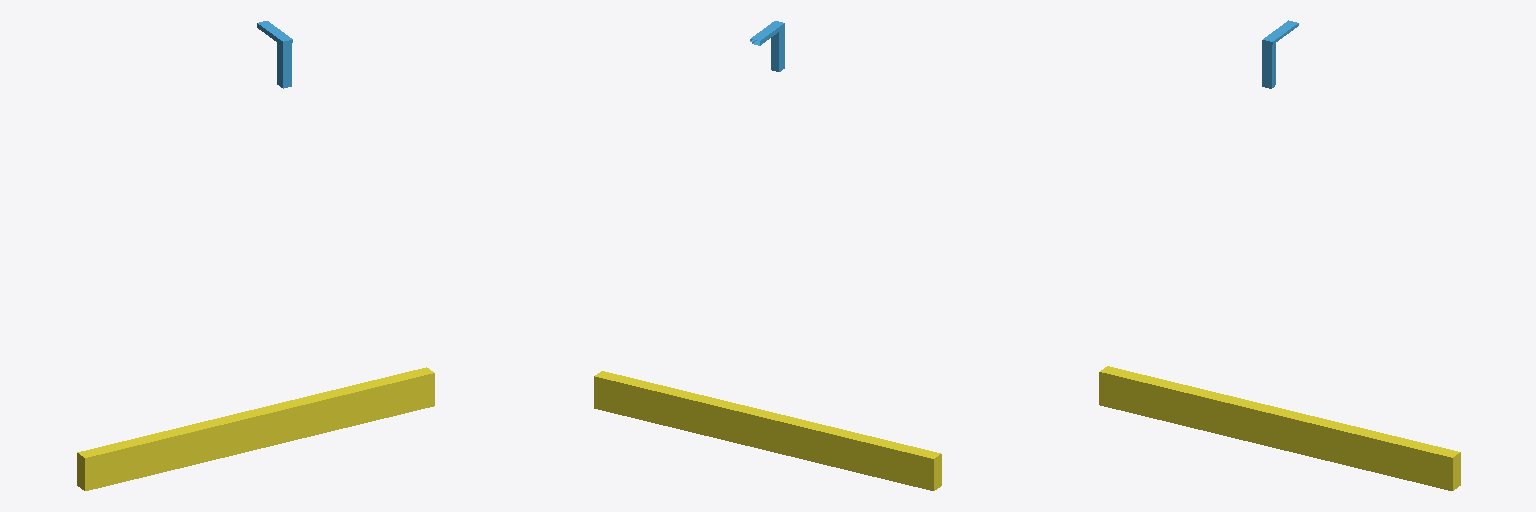
robot.urdf — partnet_302650a74e884d99544782db8258108:
<?xml version="1.0" ?>
<robot name="partnet_302650a74e884d99544782db8258108">
	<link name="base"/>
	<link name="link_0">
		<visual name="translation-2">
			<origin xyz="0 0 0"/>
			<geometry>
				<mesh filename="textured_objs/original-6.obj" scale="1.0 1.0 1.0"/>
			</geometry>
		</visual>
		<visual name="translation-2">
			<origin xyz="0 0 0"/>
			<geometry>
				<mesh filename="textured_objs/original-4.obj" scale="1.0 1.0 1.0"/>
			</geometry>
		</visual>
		<visual name="translation-2">
			<origin xyz="0 0 0"/>
			<geometry>
				<mesh filename="textured_objs/original-8.obj" scale="1.0 1.0 1.0"/>
			</geometry>
		</visual>
		<visual name="translation-2">
			<origin xyz="0 0 0"/>
			<geometry>
				<mesh filename="textured_objs/original-7.obj" scale="1.0 1.0 1.0"/>
			</geometry>
		</visual>
		<visual name="translation-2">
			<origin xyz="0 0 0"/>
			<geometry>
				<mesh filename="textured_objs/original-3.obj" scale="1.0 1.0 1.0"/>
			</geometry>
		</visual>
		<visual name="translation-2">
			<origin xyz="0 0 0"/>
			<geometry>
				<mesh filename="textured_objs/original-5.obj" scale="1.0 1.0 1.0"/>
			</geometry>
		</visual>
		<visual name="translation-2">
			<origin xyz="0 0 0"/>
			<geometry>
				<mesh filename="textured_objs/original-2.obj" scale="1.0 1.0 1.0"/>
			</geometry>
		</visual>
		<collision>
			<origin xyz="0 0 0"/>
			<geometry>
				<mesh filename="textured_objs/original-6.obj" scale="1.0 1.0 1.0"/>
			</geometry>
		</collision>
		<collision>
			<origin xyz="0 0 0"/>
			<geometry>
				<mesh filename="textured_objs/original-4.obj" scale="1.0 1.0 1.0"/>
			</geometry>
		</collision>
		<collision>
			<origin xyz="0 0 0"/>
			<geometry>
				<mesh filename="textured_objs/original-8.obj" scale="1.0 1.0 1.0"/>
			</geometry>
		</collision>
		<collision>
			<origin xyz="0 0 0"/>
			<geometry>
				<mesh filename="textured_objs/original-7.obj" scale="1.0 1.0 1.0"/>
			</geometry>
		</collision>
		<collision>
			<origin xyz="0 0 0"/>
			<geometry>
				<mesh filename="textured_objs/original-3.obj" scale="1.0 1.0 1.0"/>
			</geometry>
		</collision>
		<collision>
			<origin xyz="0 0 0"/>
			<geometry>
				<mesh filename="textured_objs/original-5.obj" scale="1.0 1.0 1.0"/>
			</geometry>
		</collision>
		<collision>
			<origin xyz="0 0 0"/>
			<geometry>
				<mesh filename="textured_objs/original-2.obj" scale="1.0 1.0 1.0"/>
			</geometry>
		</collision>
	</link>
	<joint name="joint_0" type="fixed">
		<origin xyz="0 0 0"/>
		<axis xyz="1 0 0"/>
		<child link="link_0"/>
		<parent link="link_2"/>
		<limit lower="-0.6839999999999999" upper="0"/>
	</joint>
	<link name="link_1">
		<visual name="translation-3">
			<origin xyz="0 0 0"/>
			<geometry>
				<mesh filename="textured_objs/original-19.obj" scale="1.0 1.0 1.0"/>
			</geometry>
		</visual>
		<visual name="translation-3">
			<origin xyz="0 0 0"/>
			<geometry>
				<mesh filename="textured_objs/original-22.obj" scale="1.0 1.0 1.0"/>
			</geometry>
		</visual>
		<visual name="translation-3">
			<origin xyz="0 0 0"/>
			<geometry>
				<mesh filename="textured_objs/original-21.obj" scale="1.0 1.0 1.0"/>
			</geometry>
		</visual>
		<visual name="translation-3">
			<origin xyz="0 0 0"/>
			<geometry>
				<mesh filename="textured_objs/original-18.obj" scale="1.0 1.0 1.0"/>
			</geometry>
		</visual>
		<visual name="translation-3">
			<origin xyz="0 0 0"/>
			<geometry>
				<mesh filename="textured_objs/original-20.obj" scale="1.0 1.0 1.0"/>
			</geometry>
		</visual>
		<collision>
			<origin xyz="0 0 0"/>
			<geometry>
				<mesh filename="textured_objs/original-19.obj" scale="1.0 1.0 1.0"/>
			</geometry>
		</collision>
		<collision>
			<origin xyz="0 0 0"/>
			<geometry>
				<mesh filename="textured_objs/original-22.obj" scale="1.0 1.0 1.0"/>
			</geometry>
		</collision>
		<collision>
			<origin xyz="0 0 0"/>
			<geometry>
				<mesh filename="textured_objs/original-21.obj" scale="1.0 1.0 1.0"/>
			</geometry>
		</collision>
		<collision>
			<origin xyz="0 0 0"/>
			<geometry>
				<mesh filename="textured_objs/original-18.obj" scale="1.0 1.0 1.0"/>
			</geometry>
		</collision>
		<collision>
			<origin xyz="0 0 0"/>
			<geometry>
				<mesh filename="textured_objs/original-20.obj" scale="1.0 1.0 1.0"/>
			</geometry>
		</collision>
	</link>
	<joint name="joint_1" type="fixed">
		<origin xyz="0 0 0"/>
		<axis xyz="1 0 0"/>
		<child link="link_1"/>
		<parent link="link_2"/>
		<limit lower="-0.008000000000000007" upper="0.6640000000000001"/>
	</joint>
	<link name="link_2">
		<visual name="base_body-4">
			<origin xyz="0 0 0"/>
			<geometry>
				<mesh filename="textured_objs/original-16.obj" scale="1.0 1.0 1.0"/>
			</geometry>
		</visual>
		<visual name="base_body-4">
			<origin xyz="0 0 0"/>
			<geometry>
				<mesh filename="textured_objs/original-13.obj" scale="1.0 1.0 1.0"/>
			</geometry>
		</visual>
		<visual name="base_body-4">
			<origin xyz="0 0 0"/>
			<geometry>
				<mesh filename="textured_objs/original-15.obj" scale="1.0 1.0 1.0"/>
			</geometry>
		</visual>
		<visual name="base_body-4">
			<origin xyz="0 0 0"/>
			<geometry>
				<mesh filename="textured_objs/original-11.obj" scale="1.0 1.0 1.0"/>
			</geometry>
		</visual>
		<visual name="base_body-4">
			<origin xyz="0 0 0"/>
			<geometry>
				<mesh filename="textured_objs/original-12.obj" scale="1.0 1.0 1.0"/>
			</geometry>
		</visual>
		<visual name="base_body-4">
			<origin xyz="0 0 0"/>
			<geometry>
				<mesh filename="textured_objs/original-10.obj" scale="1.0 1.0 1.0"/>
			</geometry>
		</visual>
		<visual name="base_body-4">
			<origin xyz="0 0 0"/>
			<geometry>
				<mesh filename="textured_objs/original-14.obj" scale="1.0 1.0 1.0"/>
			</geometry>
		</visual>
		<collision>
			<origin xyz="0 0 0"/>
			<geometry>
				<mesh filename="textured_objs/original-16.obj" scale="1.0 1.0 1.0"/>
			</geometry>
		</collision>
		<collision>
			<origin xyz="0 0 0"/>
			<geometry>
				<mesh filename="textured_objs/original-13.obj" scale="1.0 1.0 1.0"/>
			</geometry>
		</collision>
		<collision>
			<origin xyz="0 0 0"/>
			<geometry>
				<mesh filename="textured_objs/original-15.obj" scale="1.0 1.0 1.0"/>
			</geometry>
		</collision>
		<collision>
			<origin xyz="0 0 0"/>
			<geometry>
				<mesh filename="textured_objs/original-11.obj" scale="1.0 1.0 1.0"/>
			</geometry>
		</collision>
		<collision>
			<origin xyz="0 0 0"/>
			<geometry>
				<mesh filename="textured_objs/original-12.obj" scale="1.0 1.0 1.0"/>
			</geometry>
		</collision>
		<collision>
			<origin xyz="0 0 0"/>
			<geometry>
				<mesh filename="textured_objs/original-10.obj" scale="1.0 1.0 1.0"/>
			</geometry>
		</collision>
		<collision>
			<origin xyz="0 0 0"/>
			<geometry>
				<mesh filename="textured_objs/original-14.obj" scale="1.0 1.0 1.0"/>
			</geometry>
		</collision>
	</link>
	<joint name="joint_2" type="fixed">
		<origin rpy="1.570796326794897 0 -1.570796326794897" xyz="0 0 0"/>
		<child link="link_2"/>
		<parent link="base"/>
	</joint>
</robot>

--- What the picture shows (computed from the rendered views, not written in the file) ---
3 views of the same robot in one strip: view 1: azimuth 30°, elevation 25°; view 2: azimuth 150°, elevation 25°; view 3: azimuth 330°, elevation 25° (orthographic).
Model partnet_302650a74e884d99544782db8258108 with 4 links and 3 joints (3 fixed), rooted at base, posed all joints at 0.
Visible links, largest first — view 1: link_2, link_0; view 2: link_2, link_0; view 3: link_2, link_0.
Boxes of the visible links, box(x1,y1,x2,y2) form: link_2: box(77, 367, 434, 490); link_0: box(257, 21, 292, 88); link_2: box(594, 371, 941, 490); link_0: box(750, 21, 784, 71); link_2: box(1099, 366, 1460, 490); link_0: box(1262, 20, 1298, 88).
Size in the robot's own frame: 0.9942 by 0.1289 by 1.14 metres.
Meshes: 19 distinct files referenced, 2 mesh visuals loaded (2 OBJ); not drawn: 17 (reference not matched to a file when rendering).